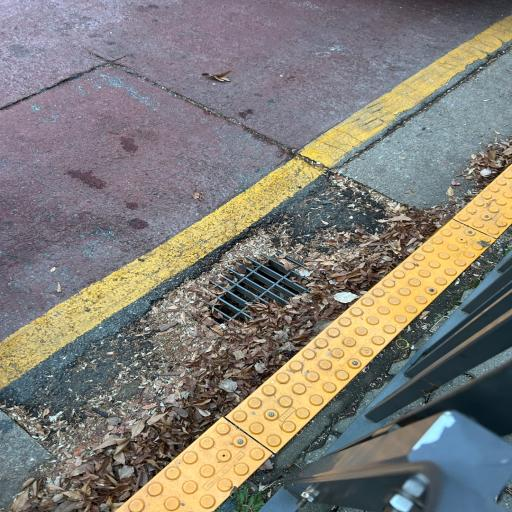debris: (212, 264, 307, 363), (292, 274, 357, 323), (229, 294, 244, 315), (196, 311, 216, 320), (232, 321, 243, 328), (240, 261, 249, 267), (275, 264, 280, 268)
drain: (167, 238, 360, 365)
